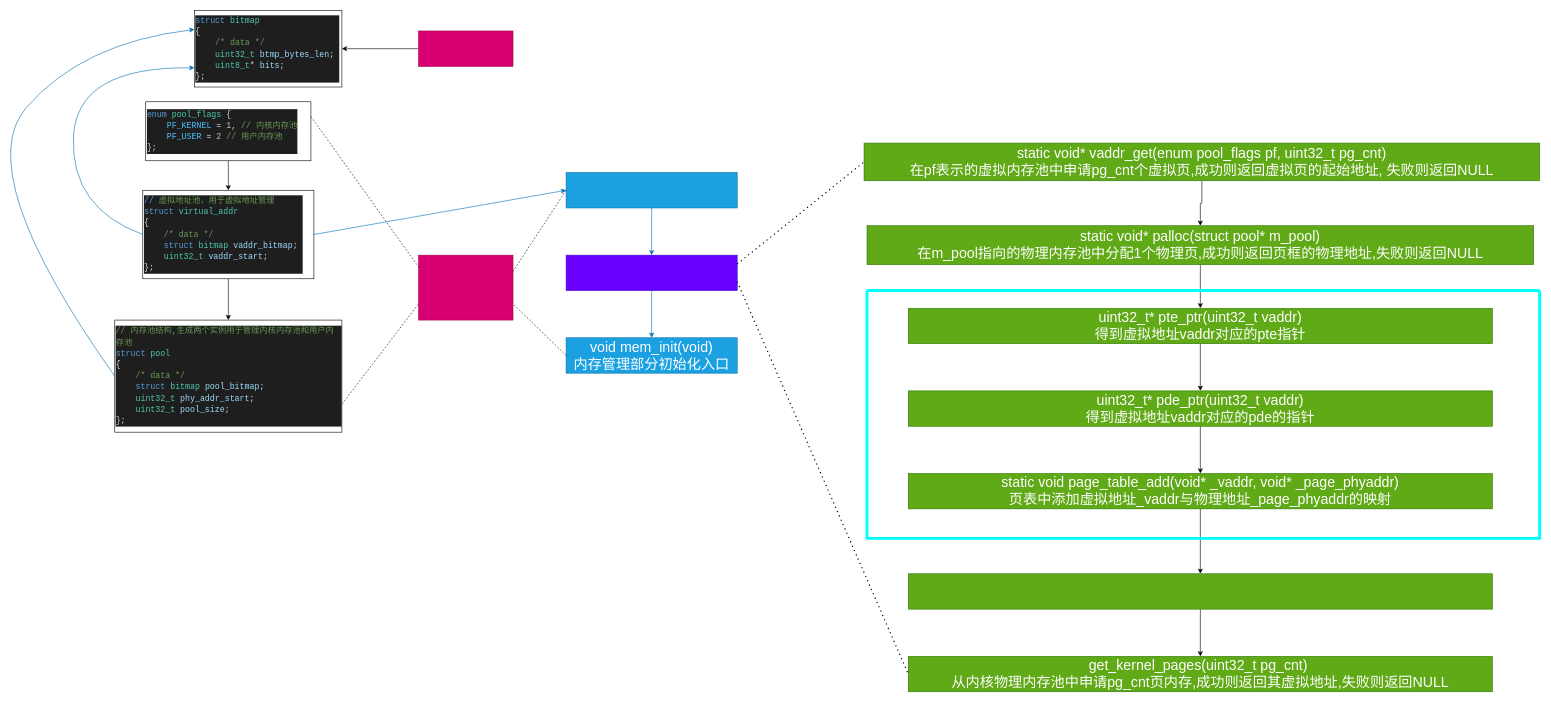
Some shapes in this 1551 by 702 pixel diagram are drawn without their labels. The shapes that lost their labels are listed below. From the top down, each one's centre as x and y in pixels, then its label:
At [465,48]: "lib/kernel/bitmap.c 设置位图".
At [651,190]: "mem_pool_init 初始化内存池".
At [465,287]: "memroy.c 实现内存管理系统".
At [651,273]: "分虚拟页并且完成物理内存页到虚拟页的映射".
At [1200,591]: "malloc_page 分配pg_cnt个页空间,成功则返回起始虚拟地址,失败时返回NULL".
